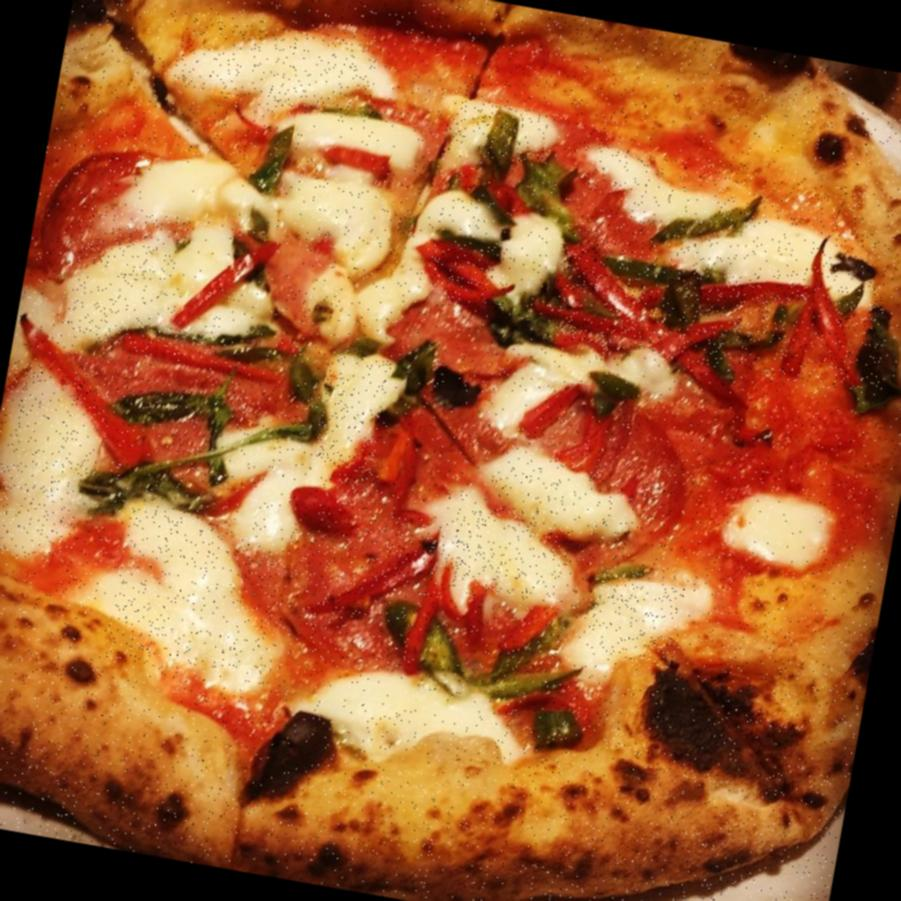Cheese: (582, 146, 880, 298), (103, 503, 297, 687), (62, 202, 253, 364), (172, 12, 380, 120), (0, 361, 106, 565), (318, 662, 518, 764), (432, 504, 574, 605), (308, 351, 392, 490), (496, 454, 626, 534), (582, 573, 686, 669), (273, 173, 393, 256), (290, 106, 424, 174), (145, 157, 260, 229), (234, 432, 314, 532), (443, 96, 551, 168), (736, 496, 822, 556)
Peppers: (545, 243, 886, 394), (378, 576, 588, 706), (294, 497, 442, 630), (792, 232, 894, 394), (166, 226, 283, 345), (417, 235, 516, 309), (522, 376, 590, 441), (284, 480, 360, 535), (377, 425, 431, 498)
Pizza: (0, 0, 901, 901)
